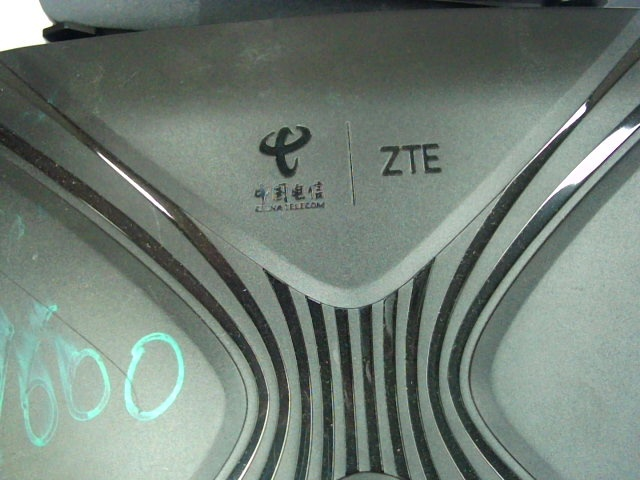AX_ZTEChinaTelecom: (234, 116, 453, 213)
